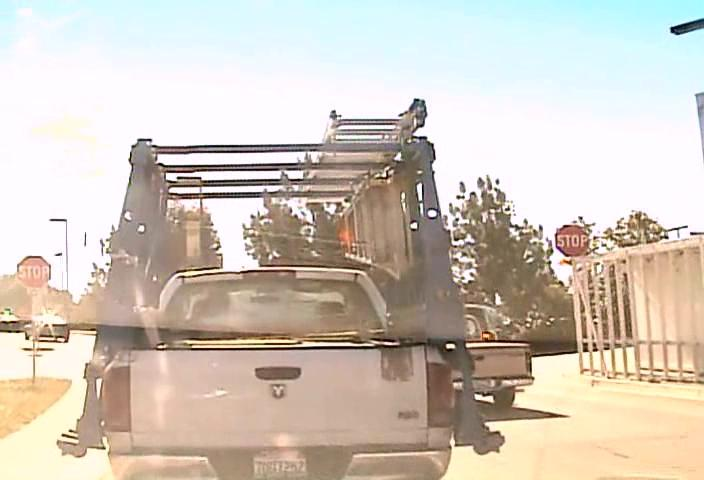stop: (554, 223, 589, 256)
